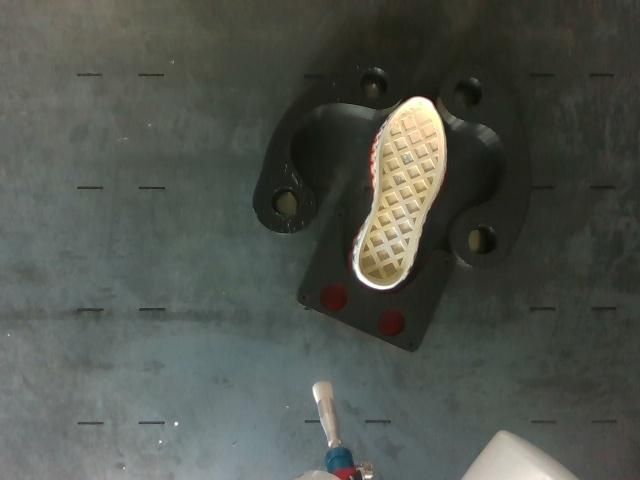shoes: (358, 97, 444, 286)
